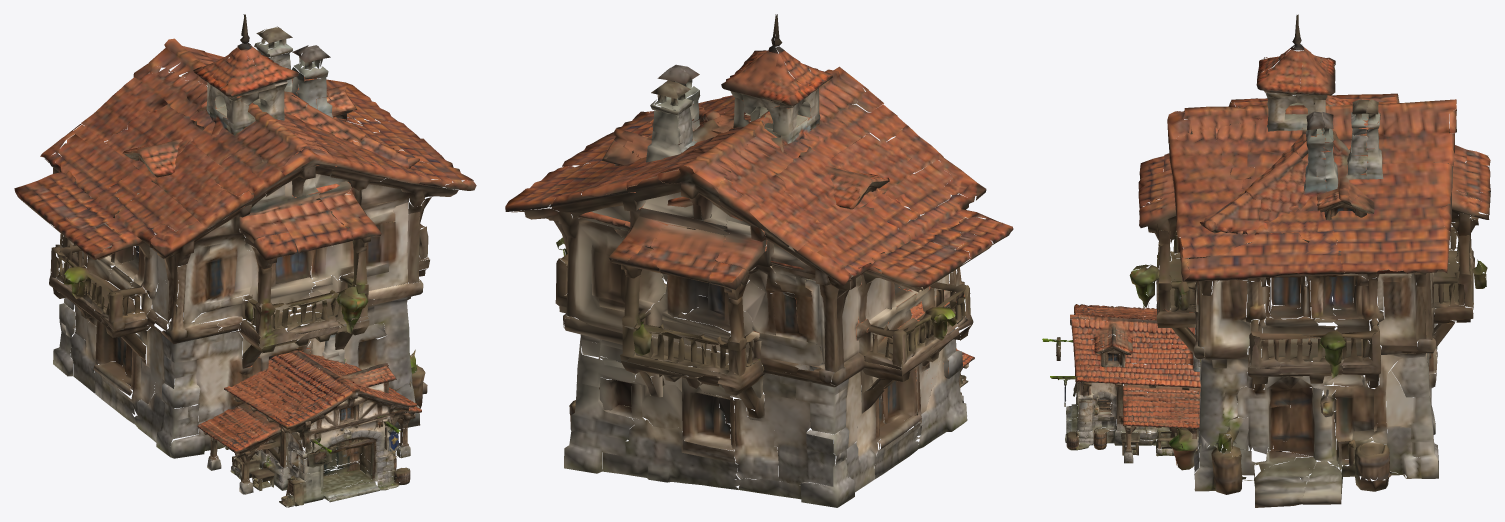
The model's file is Valoria_Granero_FPDv1.glb.
The picture shows the model from 3 angles, left to right: view 1: azimuth 30°, elevation 25°; view 2: azimuth 150°, elevation 25°; view 3: azimuth 270°, elevation 25°; orthographic projection. The views are drawn at different scales.
Parts seen in each view (by area): view 1: Granero main hall · 00, Granero loading porch · 00, Granero tall storage roof · 00; view 2: Granero main hall · 00, Granero tall storage roof · 00, Granero loading porch · 00; view 3: Granero main hall · 00, Granero loading porch · 00, Granero tall storage roof · 00.
Part boxes in pixels (left/top/right/bottom): Granero main hall · 00: left=14, top=38, right=476, bottom=458; Granero loading porch · 00: left=197, top=326, right=421, bottom=507; Granero tall storage roof · 00: left=109, top=14, right=419, bottom=232; Granero main hall · 00: left=505, top=64, right=1013, bottom=507; Granero tall storage roof · 00: left=570, top=14, right=913, bottom=284; Granero loading porch · 00: left=746, top=265, right=974, bottom=431; Granero main hall · 00: left=1129, top=93, right=1490, bottom=507; Granero loading porch · 00: left=1042, top=304, right=1237, bottom=463; Granero tall storage roof · 00: left=1200, top=14, right=1384, bottom=254.
Bounding box in the file's own units: 3.7 × 3.91 × 3.84.
3 materials, 3 textured.
